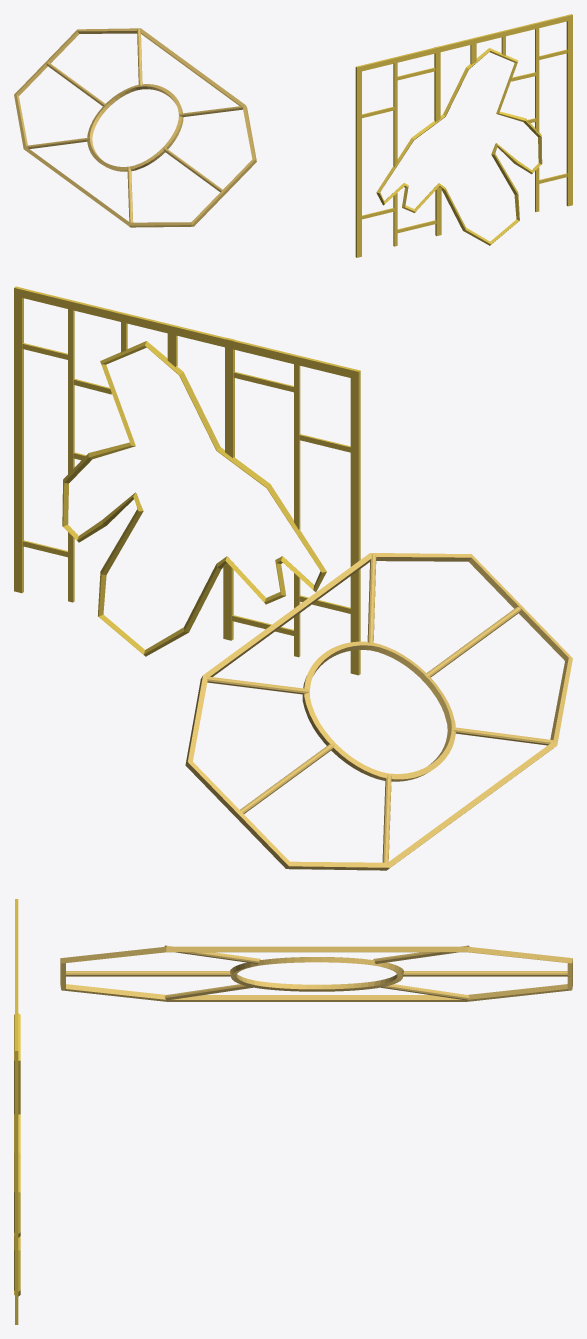
The model's file is banana_Bars.fbx.
3 renders of one model, top to bottom at view 1: azimuth 30°, elevation 25°; view 2: azimuth 150°, elevation 25°; view 3: azimuth 270°, elevation 25°, orthographic. The views are drawn at different scales.
Parts seen in each view (by area): view 1: bananaBars1, windowIrons, bananaBars2; view 2: bananaBars1, windowIrons, bananaBars2; view 3: windowIrons, bananaBars1, bananaBars2.
Part boxes in pixels (x1,y1,x2,y2): bananaBars1: (355,14,572,257); windowIrons: (14,28,256,227); bananaBars2: (376,48,542,245); bananaBars1: (14,286,360,675); windowIrons: (185,553,572,870); bananaBars2: (62,341,326,656); windowIrons: (60,945,572,1001); bananaBars1: (15,899,18,1324); bananaBars2: (14,1013,20,1296).
Bounding box in the file's own units: 1390 × 717 × 1193.
